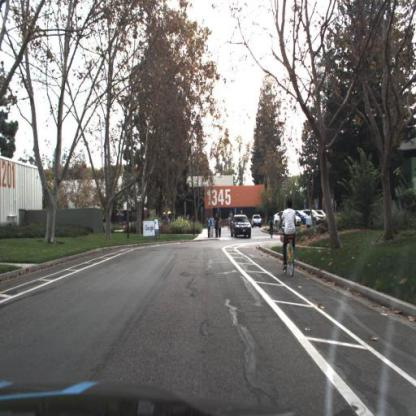biker: (283, 195, 298, 278), (282, 204, 298, 277), (267, 214, 277, 240)
car: (231, 213, 254, 241), (229, 213, 253, 238), (252, 213, 263, 229)
pedestrian: (216, 213, 221, 239), (207, 216, 212, 237), (211, 215, 215, 237), (219, 216, 223, 237)
